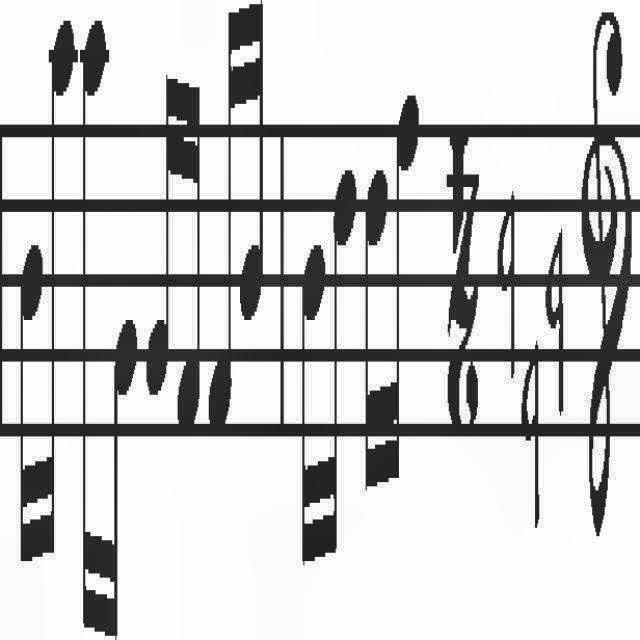Bass-clef: (578, 0, 640, 624)
Bemol: (544, 222, 574, 454), (519, 346, 553, 544), (498, 176, 522, 408)
Sixteenth-note: (44, 1, 74, 604), (391, 64, 429, 506), (80, 0, 106, 640), (208, 0, 240, 474), (328, 155, 362, 585), (9, 218, 46, 602), (297, 235, 329, 592), (145, 61, 175, 440), (178, 66, 206, 454), (105, 312, 138, 640), (360, 149, 388, 527), (241, 0, 269, 332)
